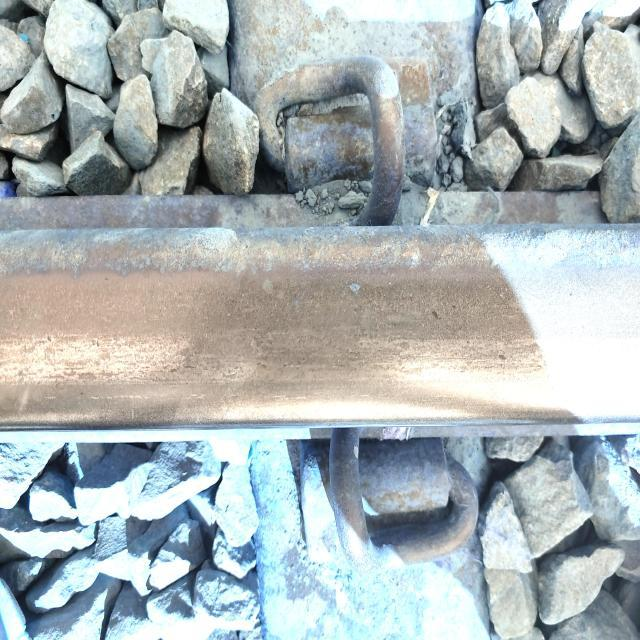Good Fasteners: (229, 0, 477, 225), (300, 429, 478, 572)
